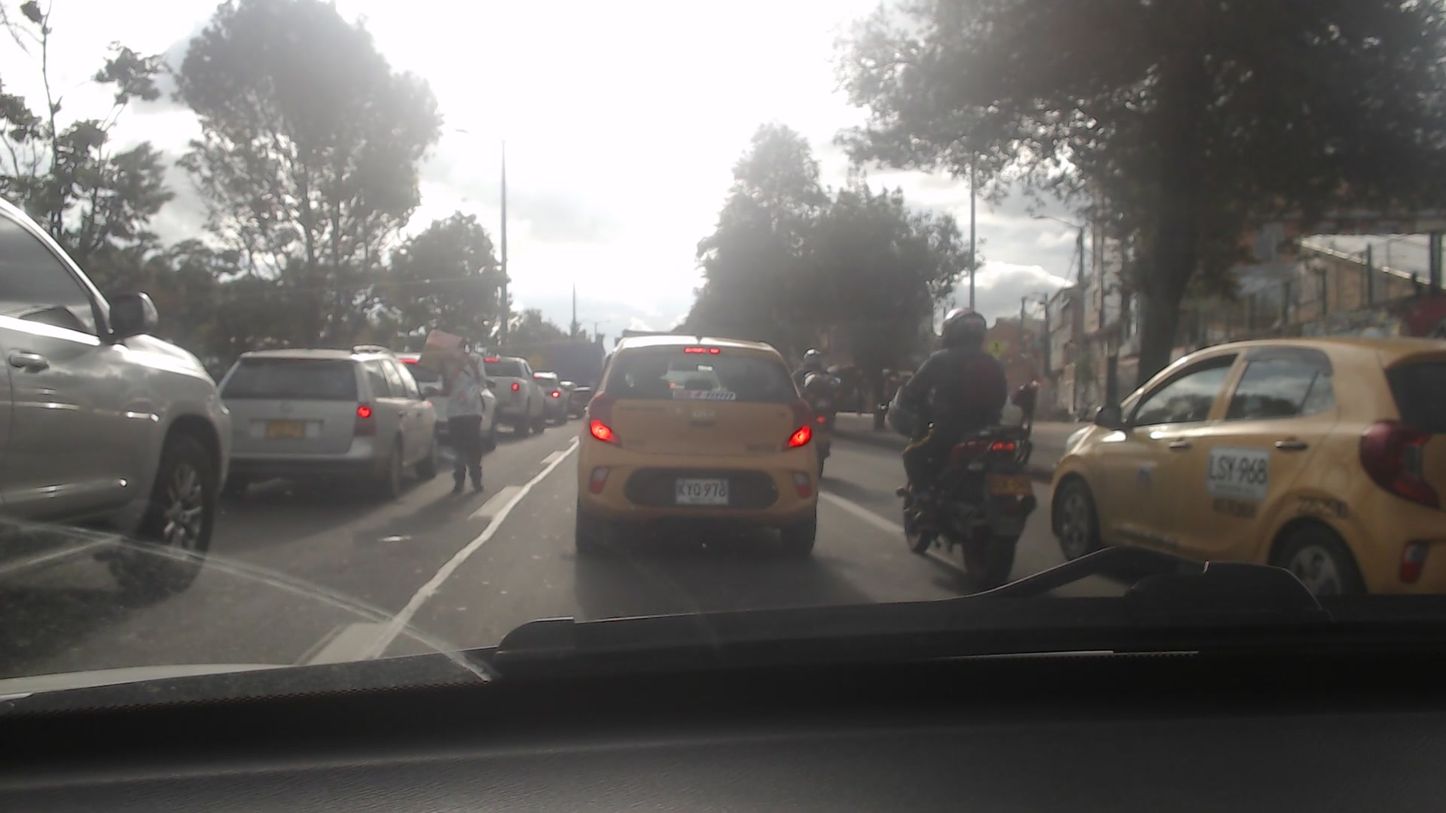car: (1042, 335, 1446, 587), (576, 332, 822, 551), (202, 350, 440, 482), (476, 353, 545, 431)
motorcycle: (888, 421, 1036, 589)
person: (907, 306, 1004, 490), (431, 346, 493, 497)
